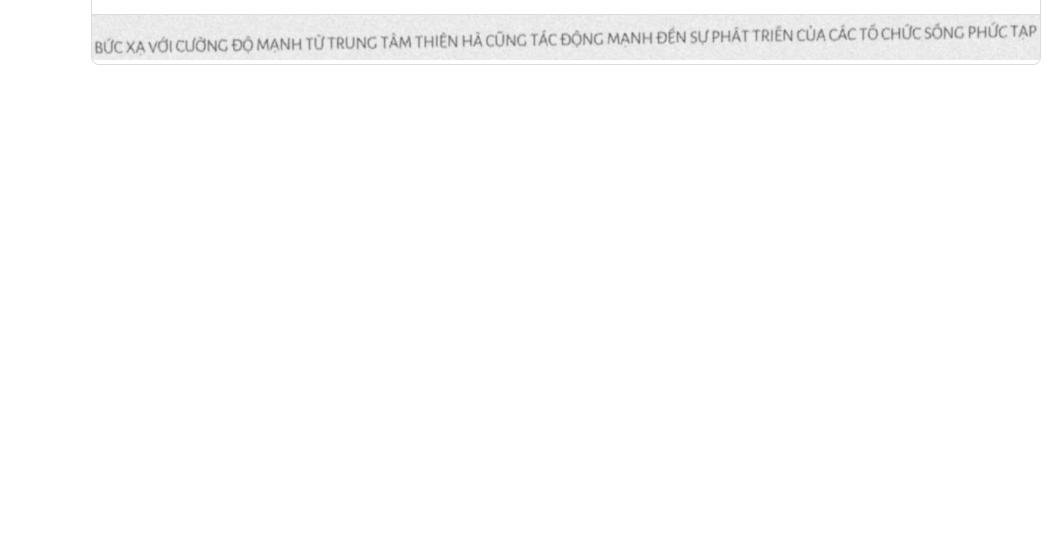text: (92, 18, 1038, 57), (908, 162, 908, 162)
